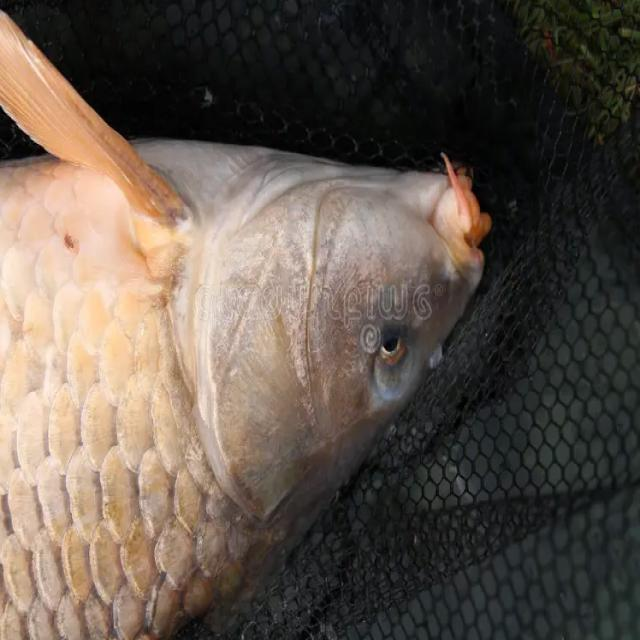Common carp: (0, 9, 496, 640)
